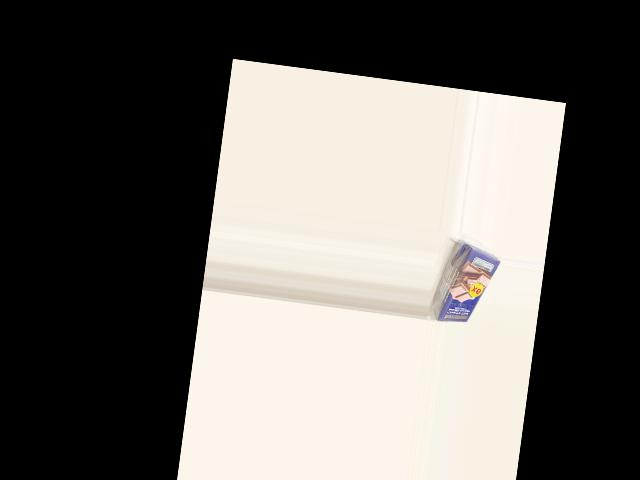chocolate: (432, 242, 502, 328)
